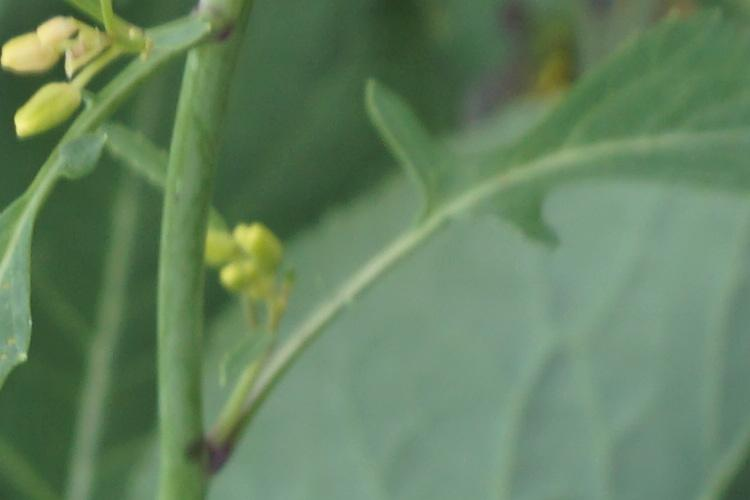bud: (11, 83, 97, 138), (226, 214, 283, 271), (6, 30, 61, 80), (208, 252, 257, 301), (42, 12, 76, 41)
